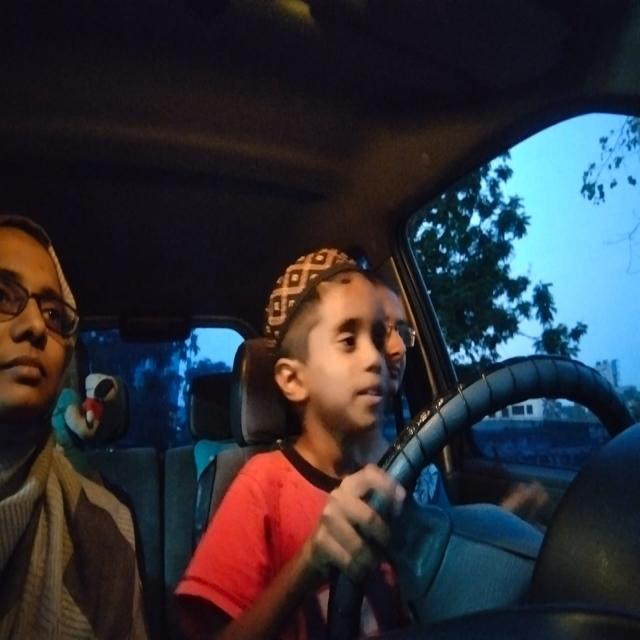child: (252, 242, 402, 459)
person: (0, 202, 92, 457), (385, 274, 415, 402)
